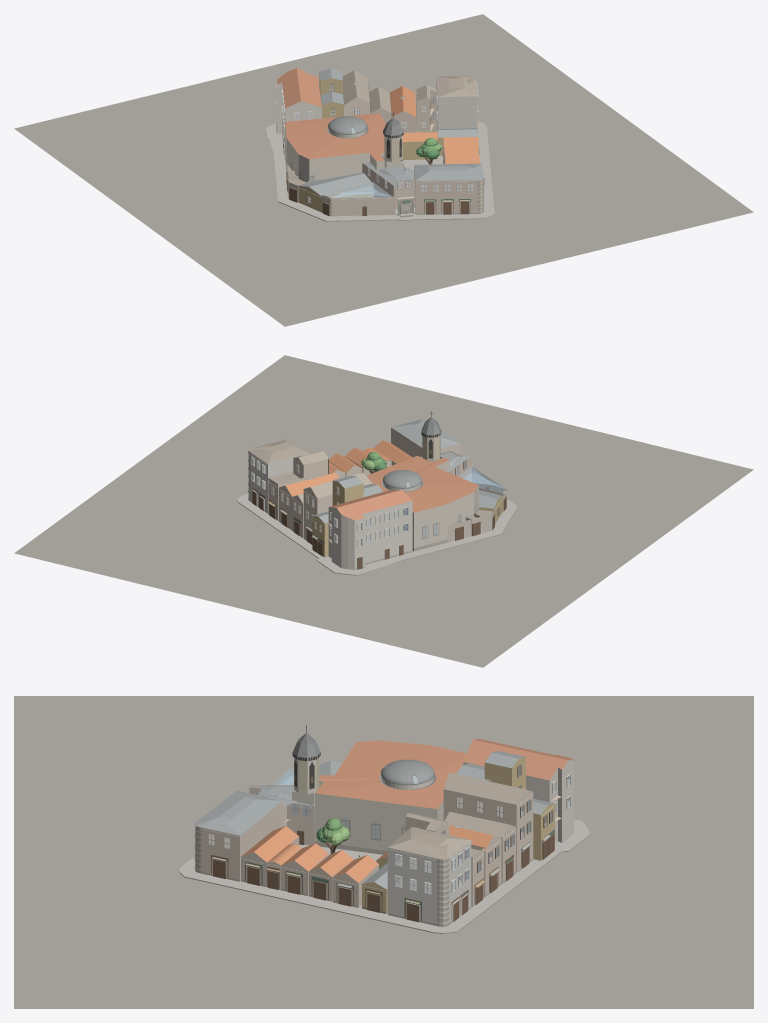
The model's file is block147.glb.
The picture shows the model from 3 angles, top to bottom: view 1: azimuth 30°, elevation 25°; view 2: azimuth 150°, elevation 25°; view 3: azimuth 270°, elevation 25°; orthographic projection. The views are drawn at different scales.
Visible parts, largest first — view 1: ground, CHURCH, S-41-43-45-E16.merged_mass, sidewalk, W-34-36-FIRIN.bakery_mass, N-52-54-E2.corner_mass, W-39-1.camli_vitre_passage, W-39-1.wooden_church_edge_annex, W-39-1.masonry_side_narthex, N-44, N-48, N-50.south_rear_three_storey_roofed (+4 smaller); view 2: ground, CHURCH, W-34-36-FIRIN.bakery_mass, sidewalk, N-52-54-E2.corner_mass, S-41-43-45-E16.merged_mass, N-44, N-48, N-50.south_rear_three_storey_roofed, N-40-42.middle_four_storey, N-50.north_front_two_storey_flat, N-40-42.north_two_storey (+3 smaller); view 3: ground, CHURCH, N-52-54-E2.corner_mass, S-41-43-45-E16.merged_mass, sidewalk, N-44, W-34-36-FIRIN.bakery_mass, E-14, W-39-1.masonry_side_narthex, N-46, E-6, E-10 (+9 smaller).
Boxes of the visible parts, x1,y1,x2,y2 form: ground: (14,14,753,326); CHURCH: (285,112,403,181); S-41-43-45-E16.merged_mass: (414,163,484,214); sidewalk: (265,121,494,221); W-34-36-FIRIN.bakery_mass: (276,68,321,158); N-52-54-E2.corner_mass: (436,76,479,138); W-39-1.camli_vitre_passage: (322,182,393,216); W-39-1.wooden_church_edge_annex: (298,173,373,212); W-39-1.masonry_side_narthex: (362,162,414,214); N-44: (342,70,370,116); N-48: (390,86,415,132); N-50.south_rear_three_storey_roofed: (416,85,436,132); ground: (14,355,753,667); CHURCH: (366,411,478,551); W-34-36-FIRIN.bakery_mass: (328,489,412,569); sidewalk: (237,493,517,575); N-52-54-E2.corner_mass: (248,439,309,513); S-41-43-45-E16.merged_mass: (391,419,460,457); N-44: (303,472,372,544); N-48: (278,472,339,530); N-50.south_rear_three_storey_roofed: (293,451,328,480); N-40-42.middle_four_storey: (332,475,363,505); N-50.north_front_two_storey_flat: (267,470,303,520); N-40-42.north_two_storey: (311,511,328,557); ground: (14,696,753,1008); CHURCH: (292,725,466,854); N-52-54-E2.corner_mass: (387,827,471,926); S-41-43-45-E16.merged_mass: (194,790,282,881); sidewalk: (179,819,590,933); N-44: (443,772,533,872); W-34-36-FIRIN.bakery_mass: (463,739,573,843); E-14: (241,826,299,886); W-39-1.masonry_side_narthex: (249,785,314,845); N-46: (445,811,515,883); E-6: (332,855,378,907); E-10: (280,843,328,895).
Size of the model in its own units: 100 by 17.09 by 100.
